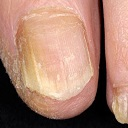Nail Fungal Infection: (15, 57, 95, 96)
